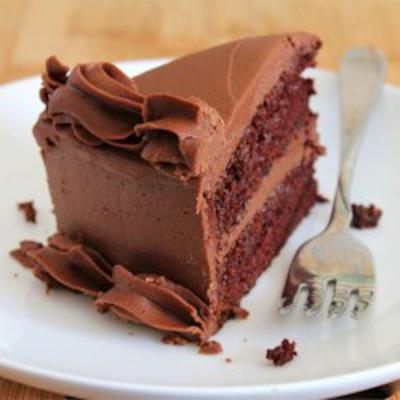cake: (24, 27, 323, 343)
